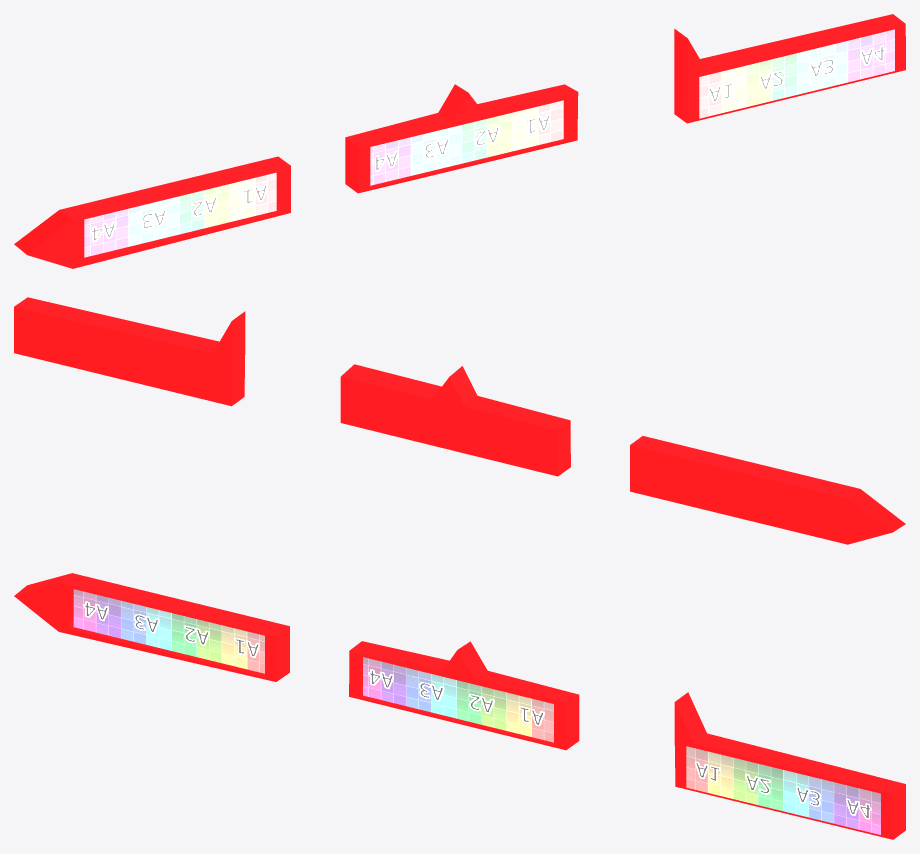
File: hps3.glb
3 renders of one model, top to bottom at view 1: azimuth 30°, elevation 25°; view 2: azimuth 150°, elevation 25°; view 3: azimuth 330°, elevation 25°, orthographic.
Parts seen in each view (by area): view 1: cote_content, dessus_content, haut_content; view 2: cote_content, haut_content, dessus_content; view 3: cote_content, haut_content, dessus_content.
Part boxes in pixels (x1=…): cote_content: x1=14, y1=156, x2=290, y2=268; dessus_content: x1=345, y1=84, x2=578, y2=193; haut_content: x1=674, y1=14, x2=905, y2=123; cote_content: x1=630, y1=436, x2=905, y2=544; haut_content: x1=14, y1=297, x2=245, y2=406; dessus_content: x1=340, y1=364, x2=570, y2=476; cote_content: x1=14, y1=573, x2=289, y2=681; haut_content: x1=674, y1=692, x2=905, y2=839; dessus_content: x1=349, y1=641, x2=579, y2=750.
Bounding box in the file's own units: 8.05 × 0.7485 × 0.2647.
